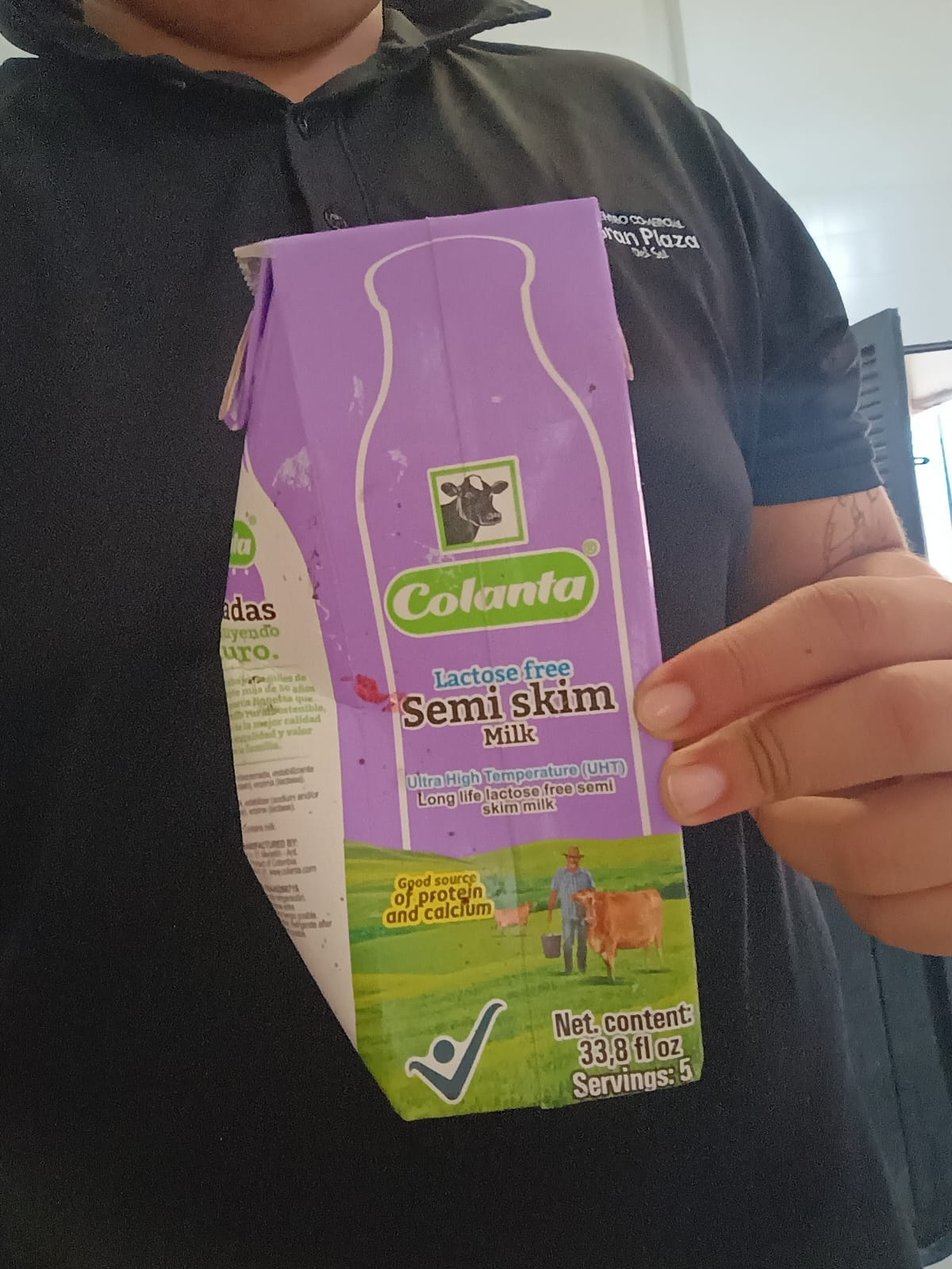Carton: (221, 200, 708, 1120)
